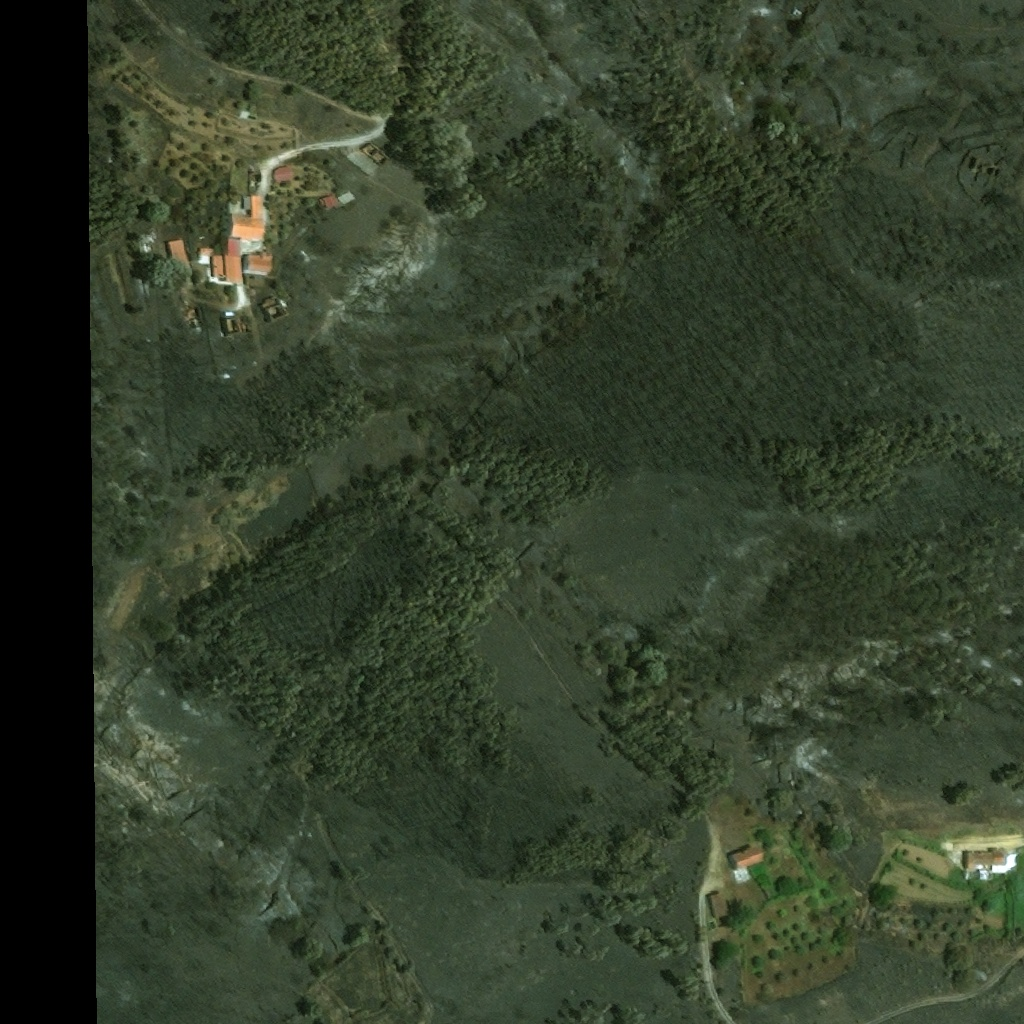0 no-damage: (229, 193, 267, 239), (166, 239, 192, 274), (198, 247, 223, 281), (730, 847, 763, 869), (243, 252, 275, 273), (224, 252, 245, 283), (966, 852, 993, 869), (710, 894, 726, 919), (273, 165, 296, 182), (319, 190, 338, 210), (338, 188, 357, 208), (992, 849, 1005, 865), (227, 238, 239, 252)
3 destroyed: (260, 291, 294, 322), (360, 138, 390, 166), (224, 312, 248, 334)
